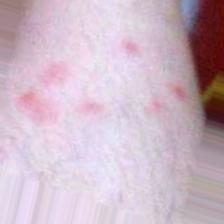Fleas: (10, 87, 63, 128), (35, 56, 70, 91), (75, 100, 105, 115), (142, 100, 164, 116), (170, 84, 187, 100), (121, 38, 136, 56)
